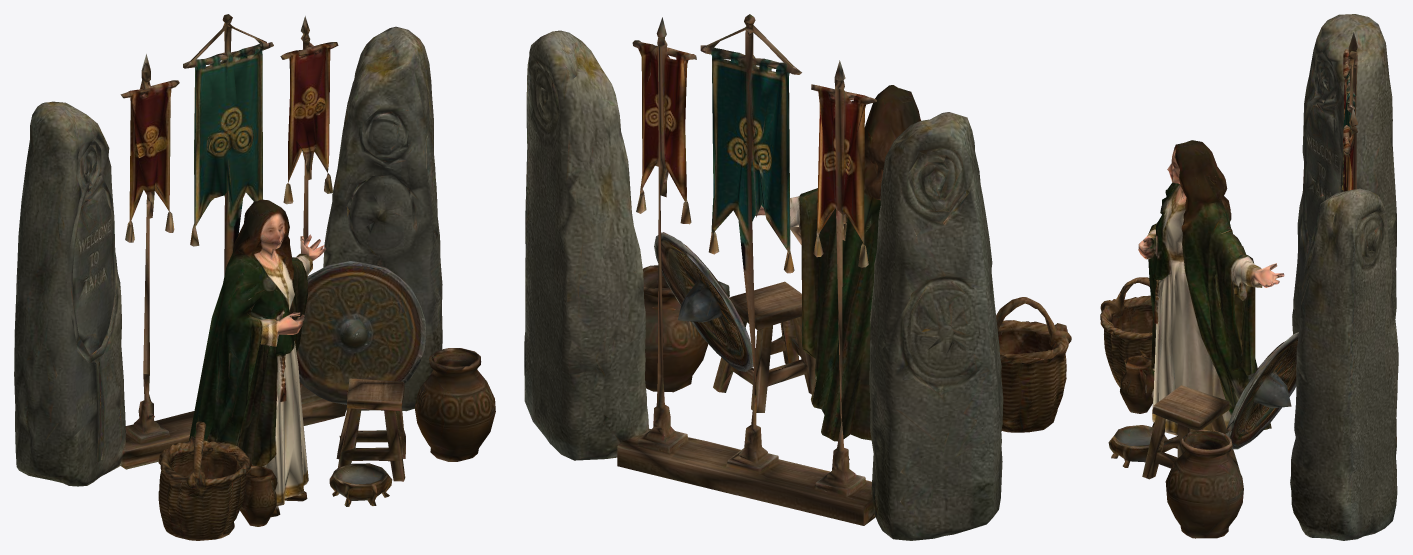
The model's file is 1entrance.glb.
3 renders of one model, left to right at view 1: azimuth 30°, elevation 25°; view 2: azimuth 150°, elevation 25°; view 3: azimuth 270°, elevation 25°, orthographic. The views are drawn at different scales.
Parts seen in each view (by area): view 1: Mesh1.0; view 2: Mesh1.0; view 3: Mesh1.0.
Boxes of the visible parts, x1=… form: Mesh1.0: x1=14, y1=14, x2=495, y2=540; Mesh1.0: x1=524, y1=14, x2=1071, y2=540; Mesh1.0: x1=1100, y1=14, x2=1398, y2=540.
Bounding box in the file's own units: 3.17 × 3 × 1.99.
Materials: 1 (1 with a texture image).
